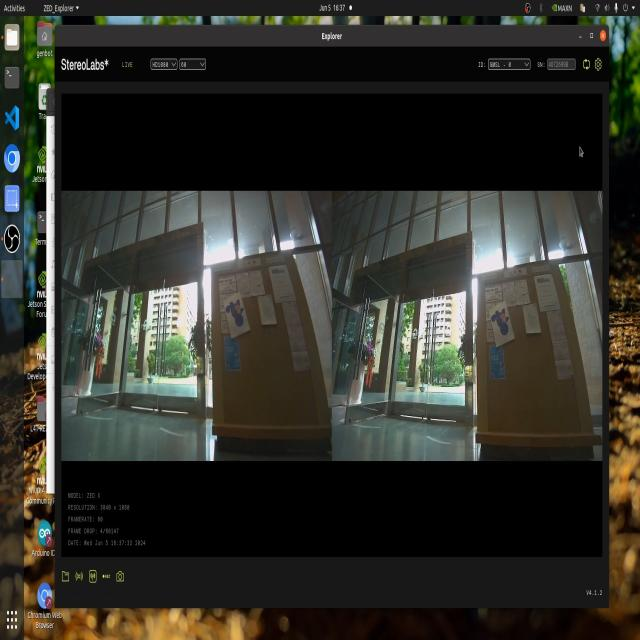blue: (223, 290, 248, 327), (489, 307, 512, 338)
